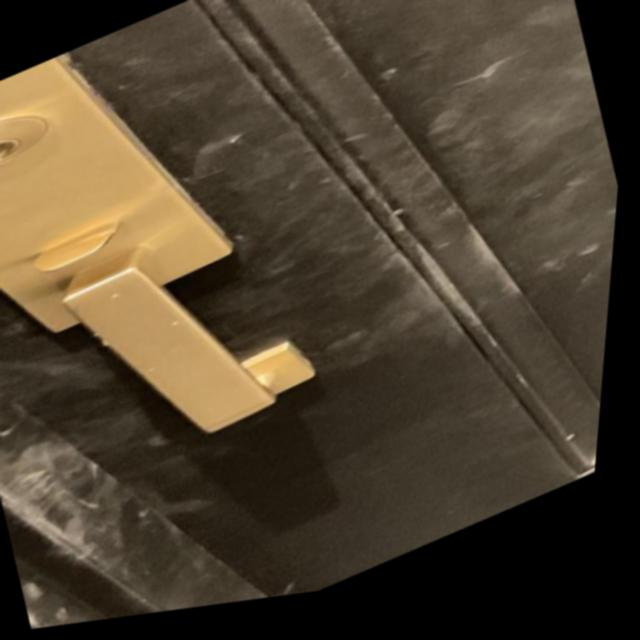door_handle: (0, 178, 365, 517)
